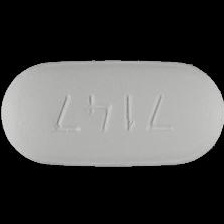0179-0033: (0, 0, 224, 224)
